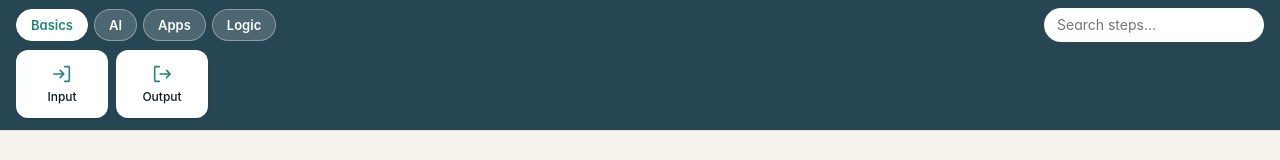
Test case: palette search › filters, moves with the arrow keys, adds with Enter and clears with Escape
This screenshot has width=1280, height=160.
Type "status_code" into the search field named "Search nodes".
click(1154, 25); type("status_code")  # box [1044,8,1264,42]
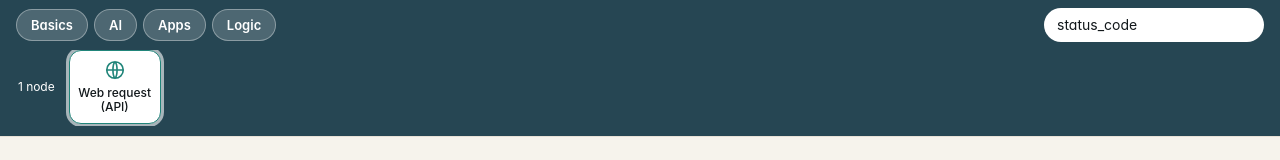
Result: the message with test id "palette-count" reads "1 node" at [18,79,55,94]
Replace the text in the search field named "Search nodes" with "o" at (1154, 25), box [1044,8,1264,42]
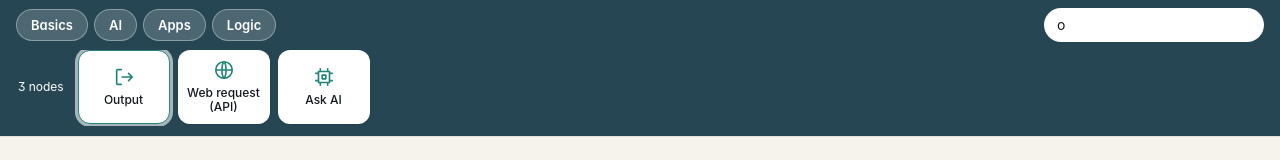
Press ArrowDown in the search field named "Search nodes", box [1044,8,1264,42]
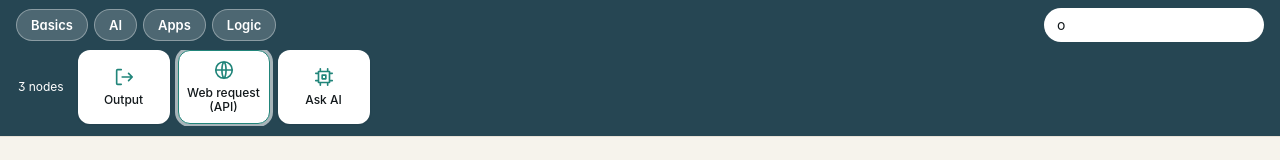
Press Enter in the search field named "Search nodes", box [1044,8,1264,42]
Press Escape in the search field named "Search nodes", box [1044,8,1264,42]
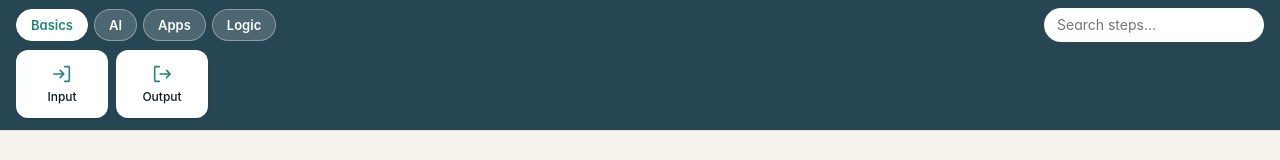
Result: the search field named "Search nodes" is empty at [1044,8,1264,42]
Result: no options are shown
